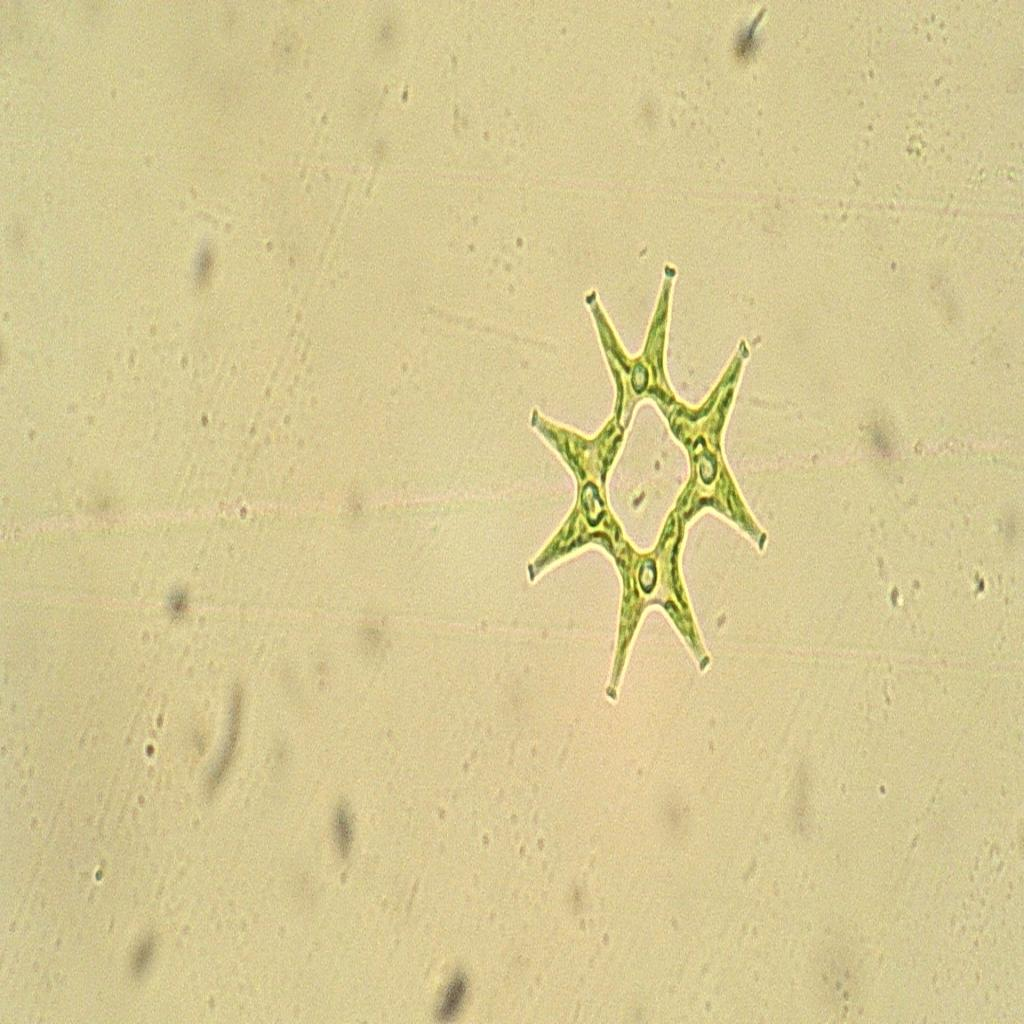Pediastrum_CO: (519, 254, 774, 720)
